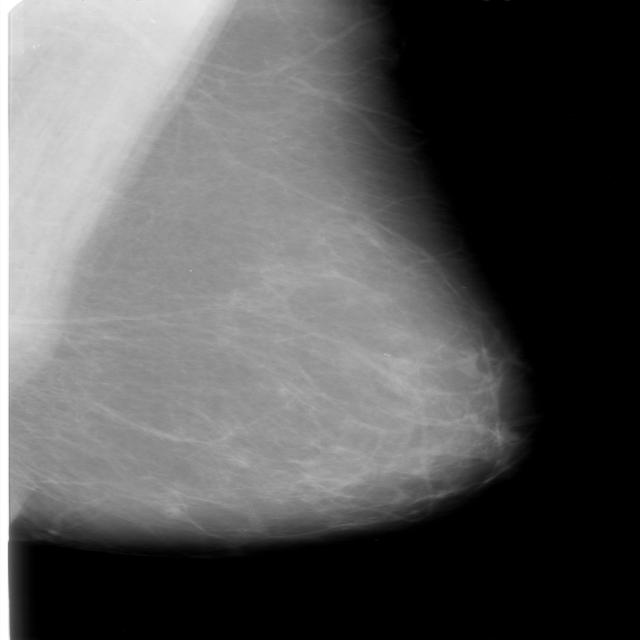normal: (0, 63, 536, 562)
